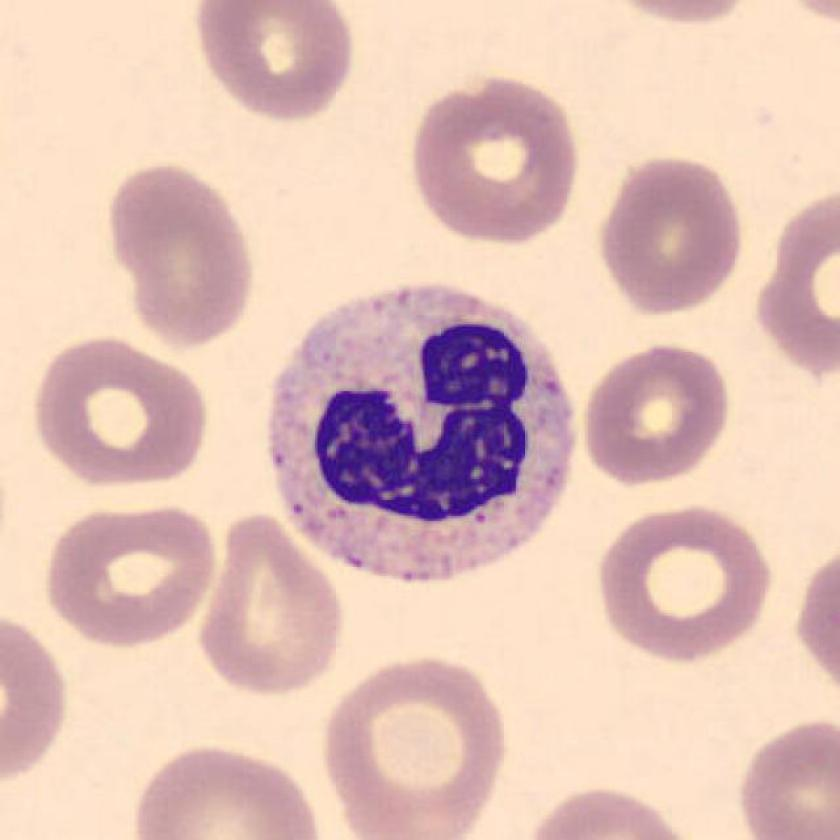neutrophil: (272, 286, 578, 581)
